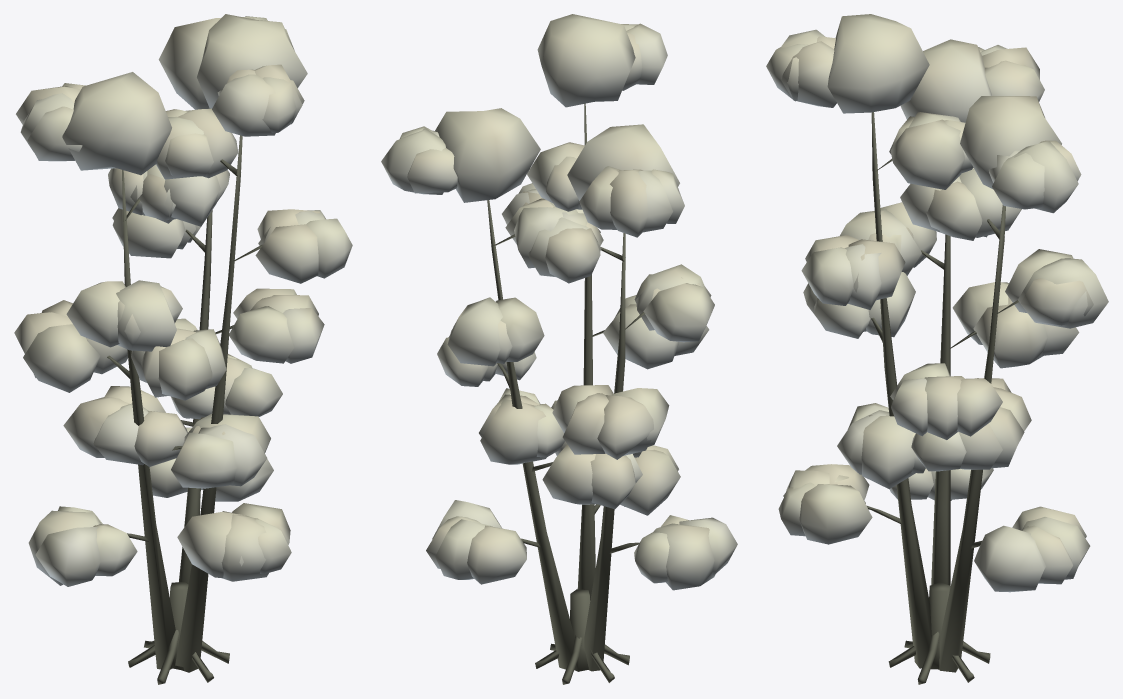
The picture shows the model from 3 angles, left to right: view 1: azimuth 30°, elevation 25°; view 2: azimuth 150°, elevation 25°; view 3: azimuth 270°, elevation 25°; orthographic projection. The views are drawn at different scales.
Parts seen in each view (by area): view 1: crown, trunk; view 2: crown, trunk; view 3: crown, trunk.
Part boxes in pixels (left/top/right/bottom): crown: left=14, top=14, right=352, bottom=586; trunk: left=107, top=135, right=262, bottom=684; crown: left=381, top=14, right=737, bottom=590; trunk: left=487, top=103, right=645, bottom=684; crown: left=766, top=14, right=1108, bottom=592; trunk: left=867, top=112, right=1018, bottom=684.
Size of the model in its own units: 6.36 by 13.31 by 6.25.
